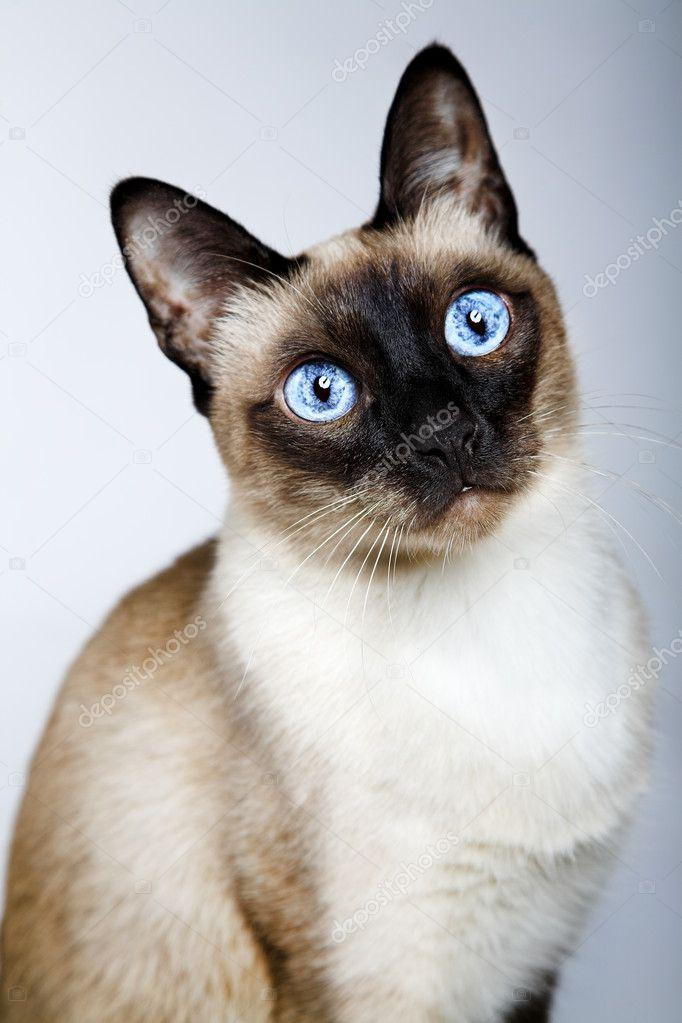siamese: (105, 34, 608, 585)
